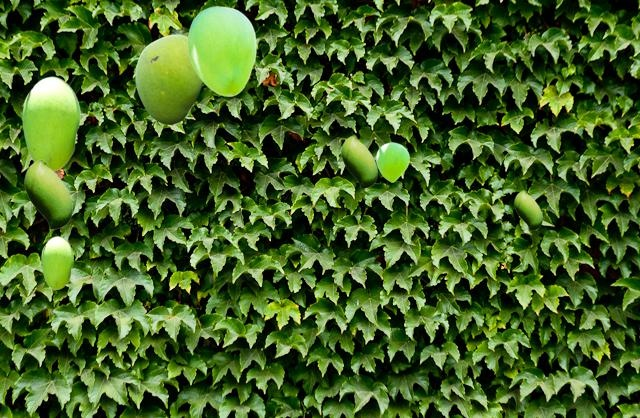green_mango: (187, 6, 255, 95), (135, 34, 202, 123), (22, 76, 79, 170), (24, 159, 71, 228), (341, 135, 376, 187), (41, 236, 72, 288), (376, 142, 408, 181), (514, 190, 541, 229)
